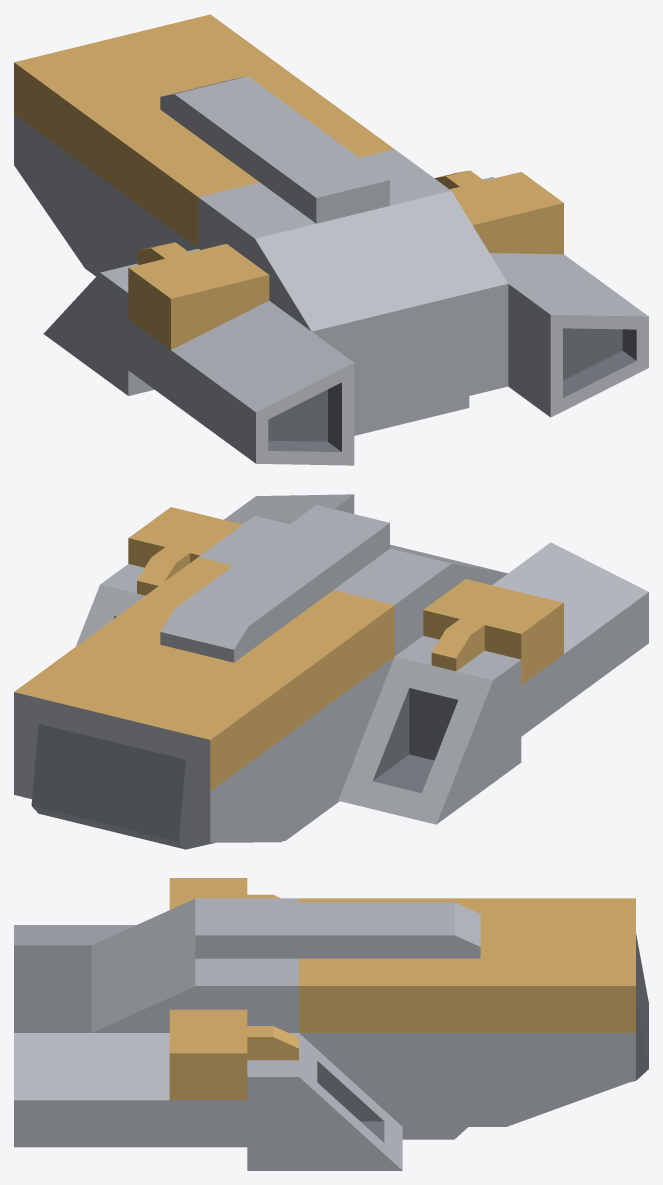
File: craft_cargoA.glb
The picture shows the model from 3 angles, top to bottom: view 1: azimuth 30°, elevation 25°; view 2: azimuth 150°, elevation 25°; view 3: azimuth 270°, elevation 25°; orthographic projection. The views are drawn at different scales.
Parts seen in each view (by area): view 1: craft_cargoA; view 2: craft_cargoA; view 3: craft_cargoA.
Boxes of the visible parts, box(x1,y1,x2,y2) form: craft_cargoA: box(14, 14, 648, 465); craft_cargoA: box(14, 494, 648, 849); craft_cargoA: box(14, 878, 648, 1170).
Bounding box in the file's own units: 1.6 × 0.8001 × 2.45.
